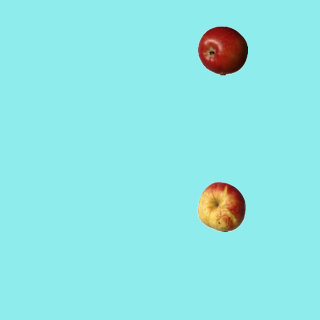Apple Braeburn: (197, 25, 247, 75)
Apple Red Yellow 1: (196, 181, 246, 231)
